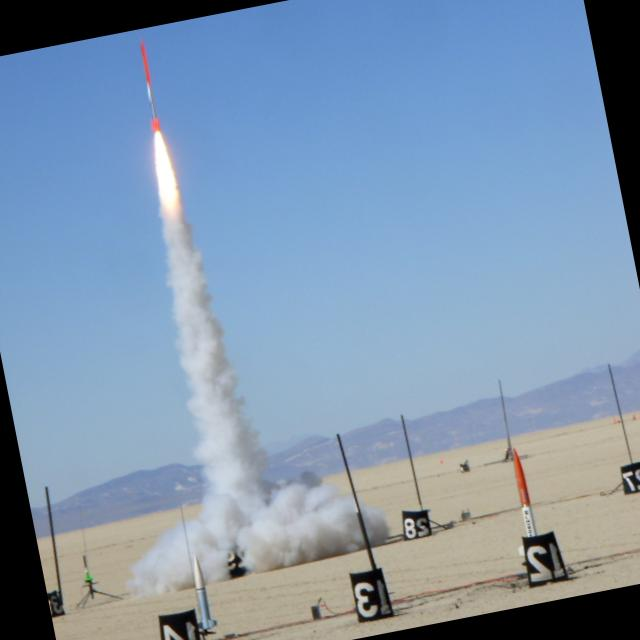rocket: (119, 31, 201, 293)
